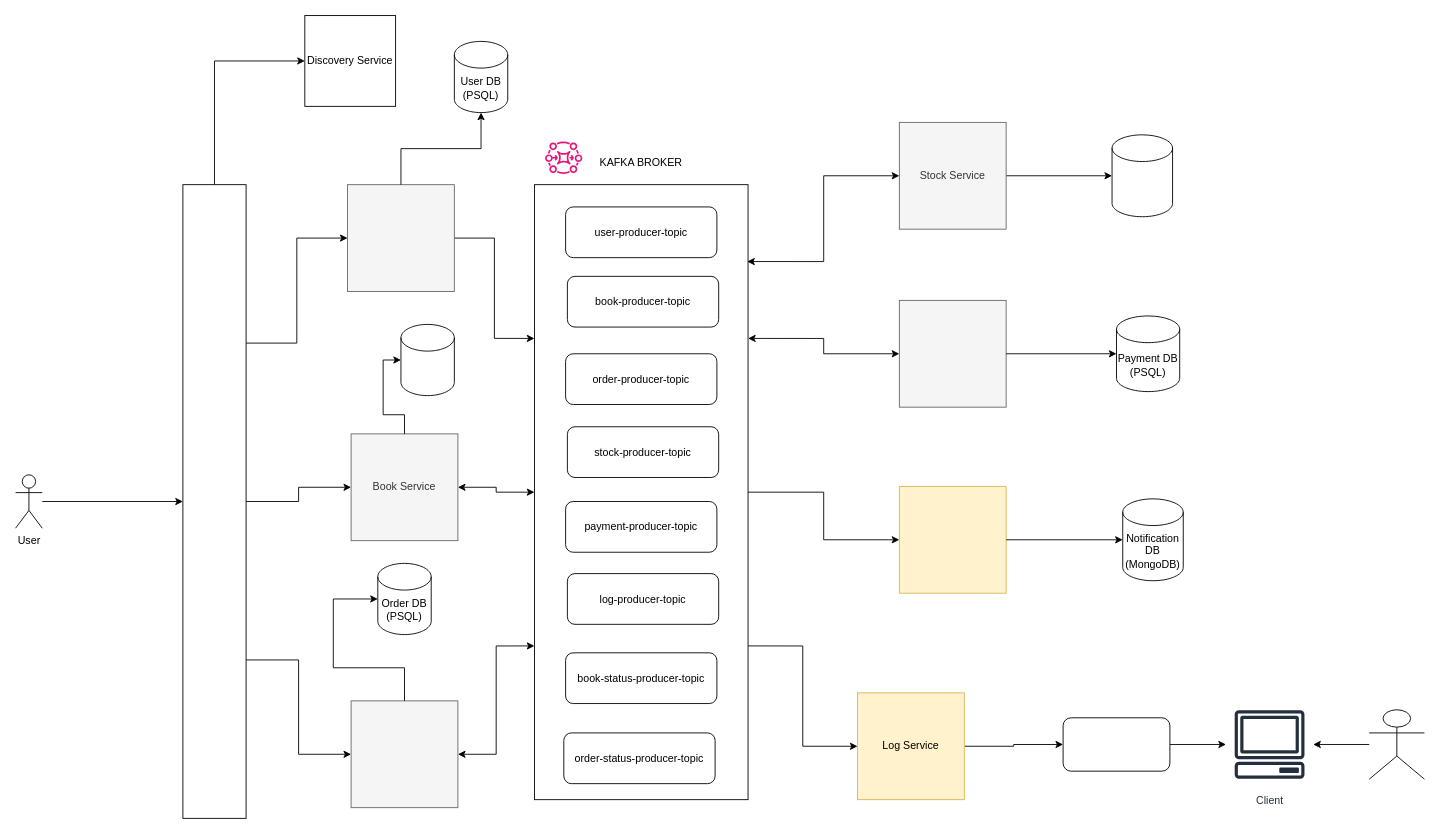
The diagram is 1440 pixels wide and 834 high, and some of its shapes have lost their labels. Each missing label, with the centre of its shape:
Admin: the point at 1396,744
API GATEWAY: the point at 214,501
Book DB (PSQL): the point at 427,360
Notification Service: the point at 952,539
Order Service: the point at 404,754
Payment Service: the point at 952,353
Stock DB (MongoDB): the point at 1142,175
UserManagement: the point at 400,237
WebSocket: the point at 1116,744
